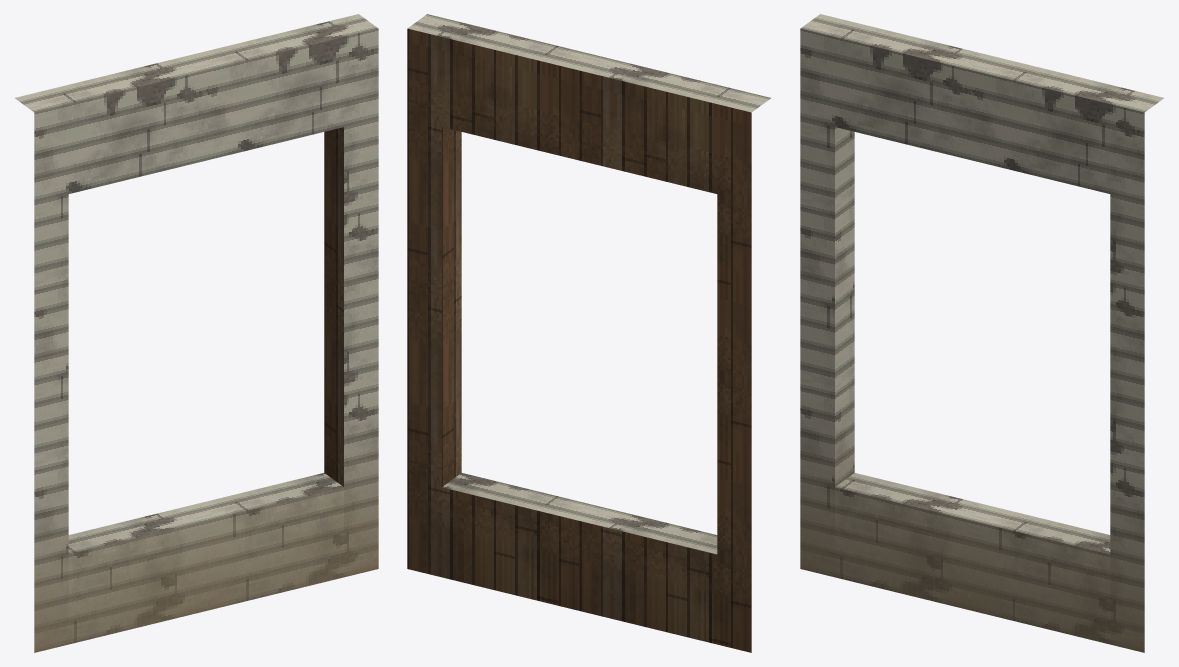
The model's file is wall_shopfront_white.glb.
3 views of the same model, side by side, from view 1: azimuth 30°, elevation 25°; view 2: azimuth 150°, elevation 25°; view 3: azimuth 330°, elevation 25° (orthographic).
Visible parts, largest first — view 1: wall_shopfront_white; view 2: wall_shopfront_white; view 3: wall_shopfront_white.
Part boxes in pixels (x1,y1,x2,y2): wall_shopfront_white: (15, 14, 378, 652); wall_shopfront_white: (407, 14, 770, 652); wall_shopfront_white: (800, 14, 1163, 652).
Bounding box in the file's own units: 2 × 3 × 0.2.
Materials: 4 (4 with a texture image).
